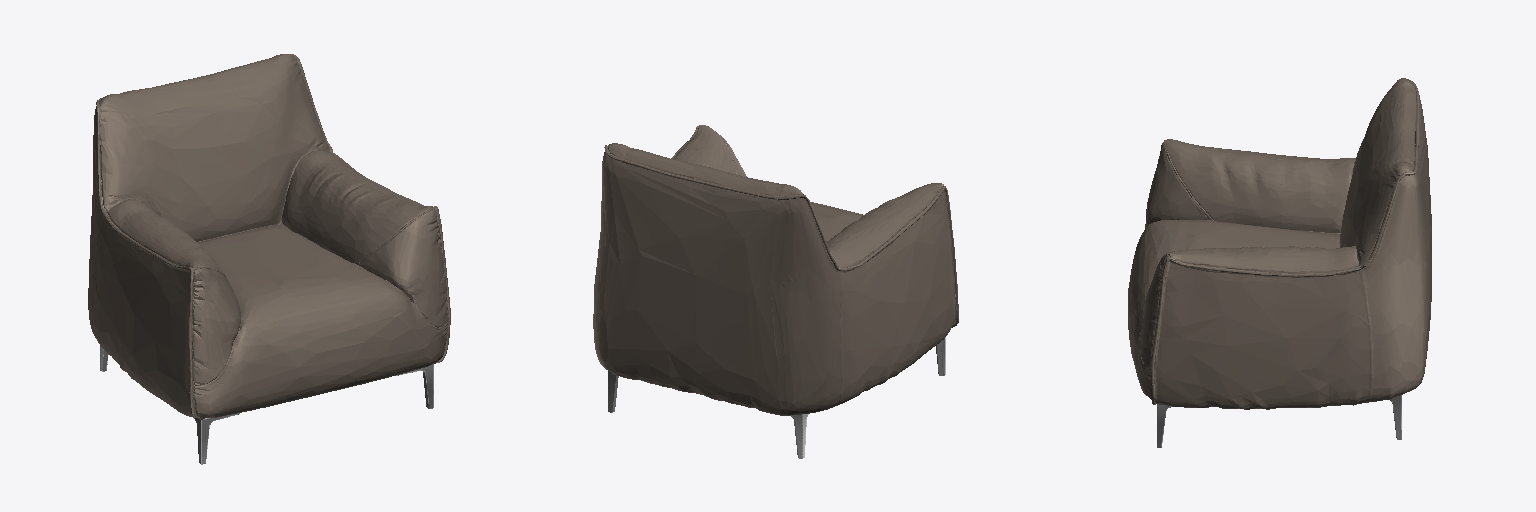
3 views of the same model, side by side, from view 1: azimuth 30°, elevation 25°; view 2: azimuth 150°, elevation 25°; view 3: azimuth 270°, elevation 25° (orthographic).
Visible parts, largest first — view 1: solid_002, solid_001; view 2: solid_002, solid_001; view 3: solid_002, solid_001.
Part boxes in pixels (x1,y1,x2,y2): solid_002: (88, 54, 450, 419); solid_001: (100, 345, 433, 464); solid_002: (593, 125, 958, 415); solid_001: (608, 337, 945, 458); solid_002: (1128, 78, 1431, 409); solid_001: (1157, 395, 1401, 447).
Bounding box in the file's own units: 1.35 × 1.33 × 1.35.
Materials: 1 (1 with a texture image).